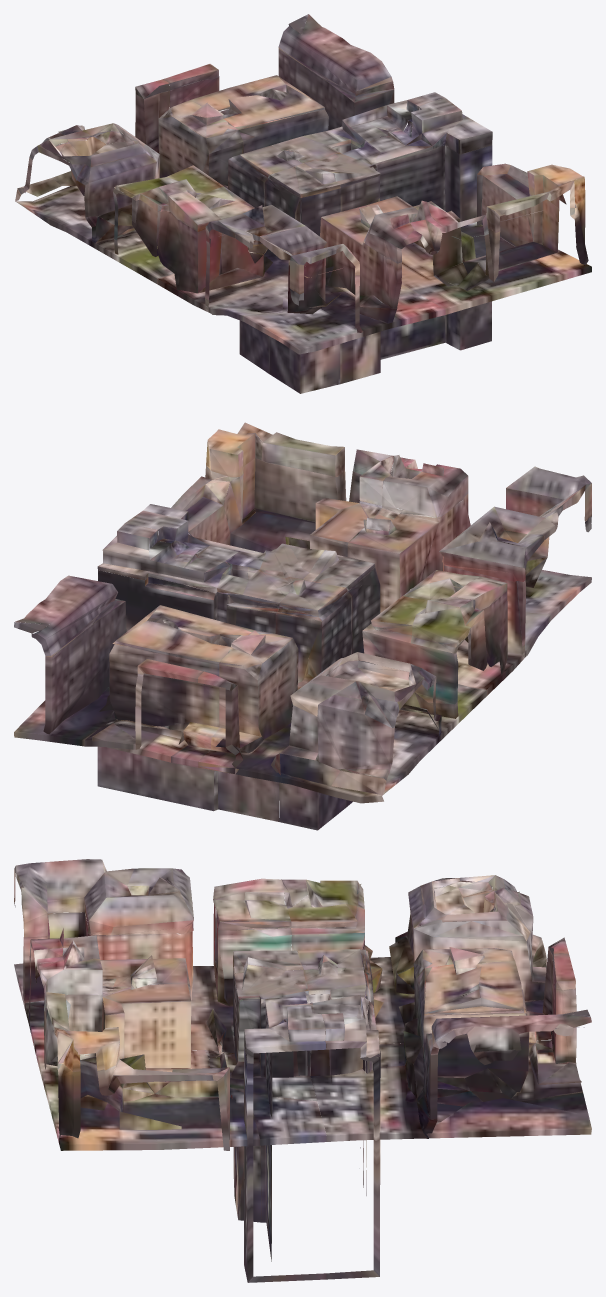
3 views of the same model, one above another, from view 1: azimuth 30°, elevation 25°; view 2: azimuth 150°, elevation 25°; view 3: azimuth 270°, elevation 25° (orthographic). The views are drawn at different scales.
Parts seen in each view (by area): view 1: Mesh_0; view 2: Mesh_0; view 3: Mesh_0.
Boxes of the visible parts, x1=… form: Mesh_0: x1=15, y1=14, x2=591, y2=393; Mesh_0: x1=14, y1=422, x2=591, y2=830; Mesh_0: x1=14, y1=859, x2=591, y2=1282.
Size of the model in its own units: 134 by 82.77 by 165.
Materials: 2 (2 with a texture image).
